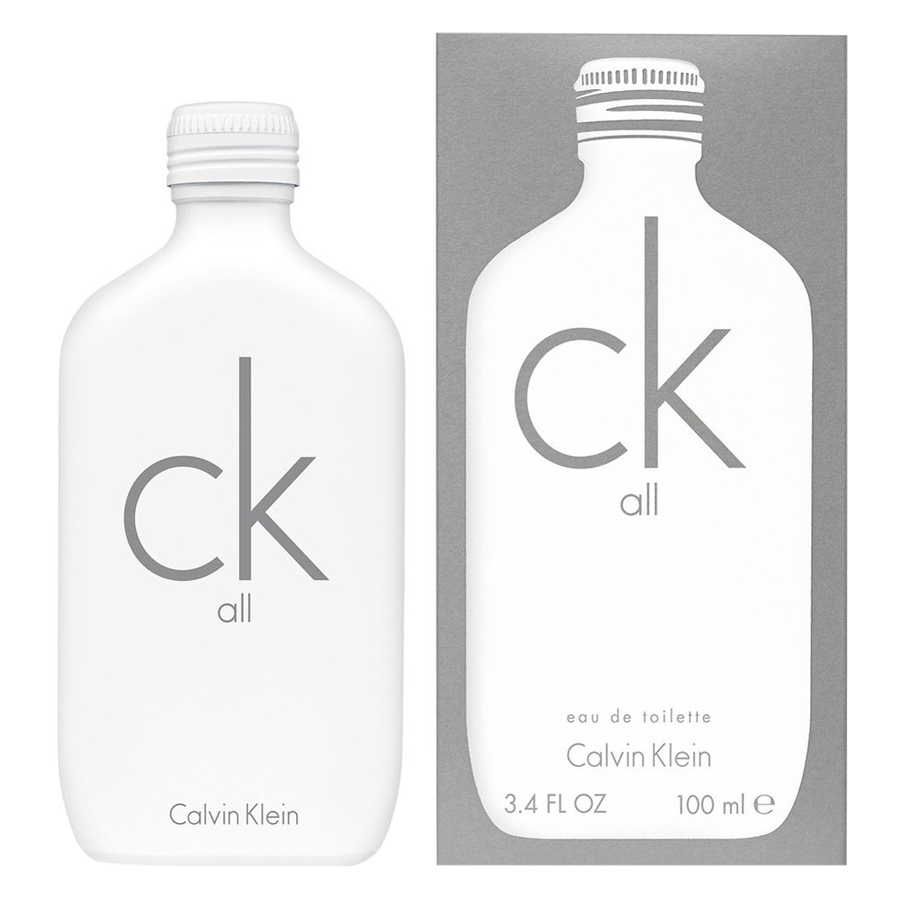Calvin Klein: (511, 213, 751, 472), (120, 345, 339, 587), (560, 734, 720, 775), (160, 793, 309, 833)
